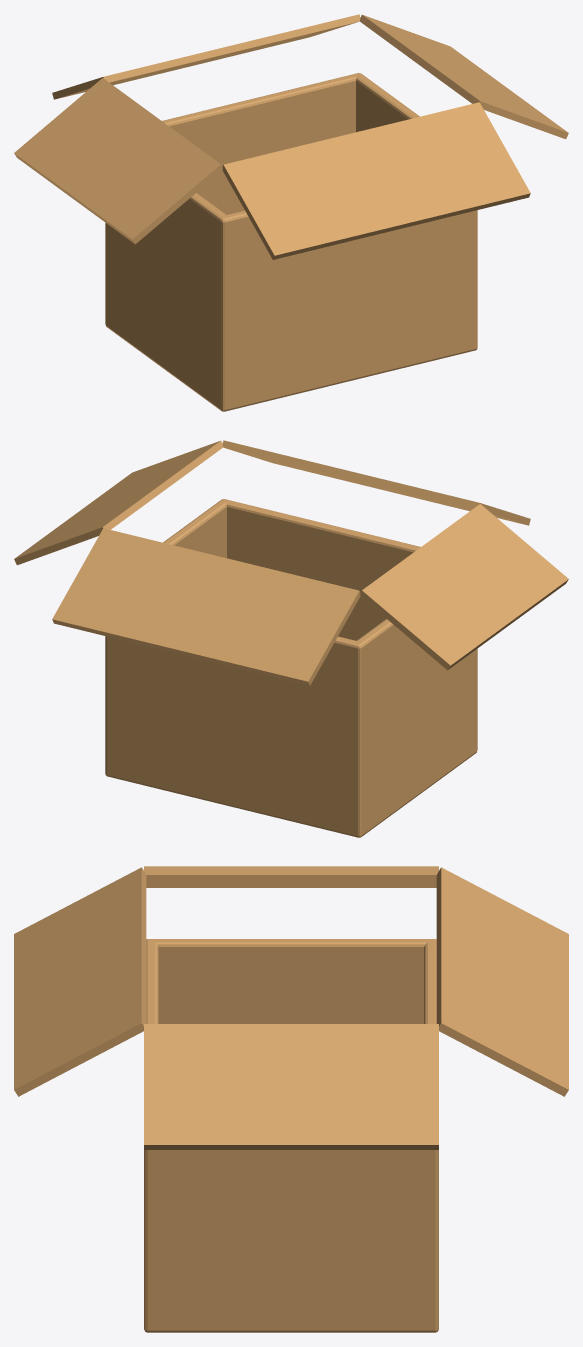
Rendered from box_open.glb.
3 renders of one model, top to bottom at view 1: azimuth 30°, elevation 25°; view 2: azimuth 150°, elevation 25°; view 3: azimuth 270°, elevation 25°, orthographic. The views are drawn at different scales.
Parts seen in each view (by area): view 1: box_open; view 2: box_open; view 3: box_open.
Part boxes in pixels (<box>): box_open: <box>14,14,568,411</box>; box_open: <box>14,440,568,837</box>; box_open: <box>14,866,568,1332</box>.
Bounding box in the file's own units: 0.8524 × 0.4652 × 0.7524.
